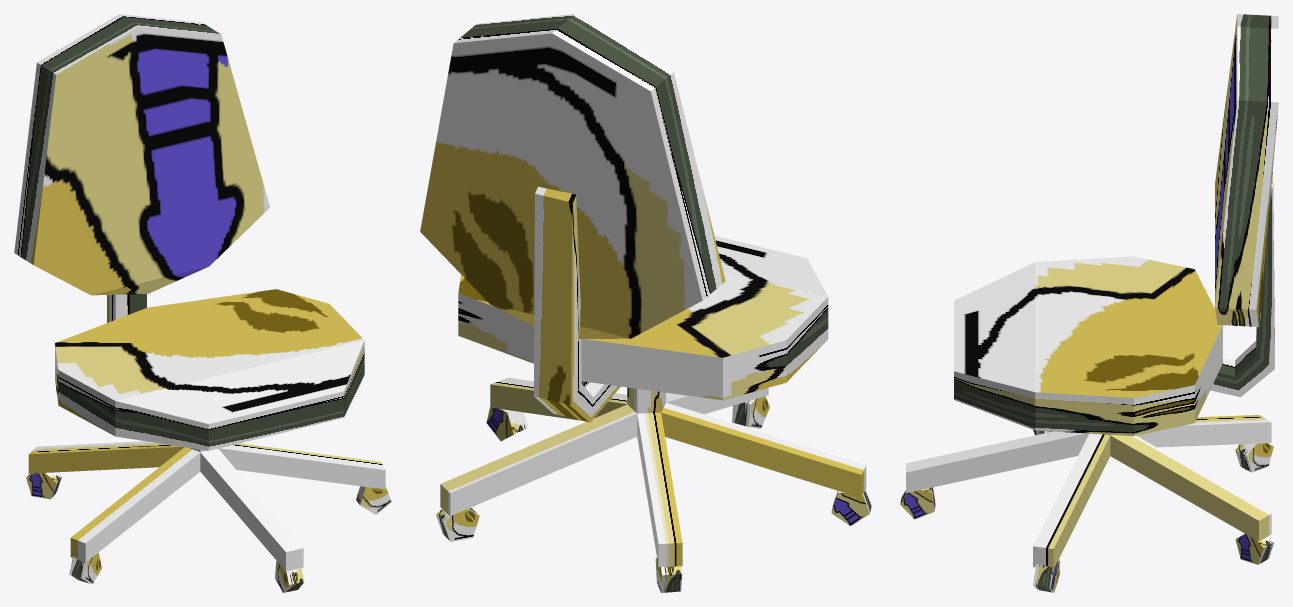
Rendered from chair.glb.
The picture shows the model from 3 angles, left to right: view 1: azimuth 30°, elevation 25°; view 2: azimuth 150°, elevation 25°; view 3: azimuth 270°, elevation 25°; orthographic projection. The views are drawn at different scales.
Parts seen in each view (by area): view 1: Cylinder.006; view 2: Cylinder.006; view 3: Cylinder.006.
Boxes of the visible parts, bbox=[...] form: Cylinder.006: bbox=[14, 14, 391, 592]; Cylinder.006: bbox=[420, 14, 871, 592]; Cylinder.006: bbox=[900, 14, 1278, 592].
Size of the model in its own units: 4.31 by 5.88 by 4.12.
Materials: 1 (1 with a texture image).
